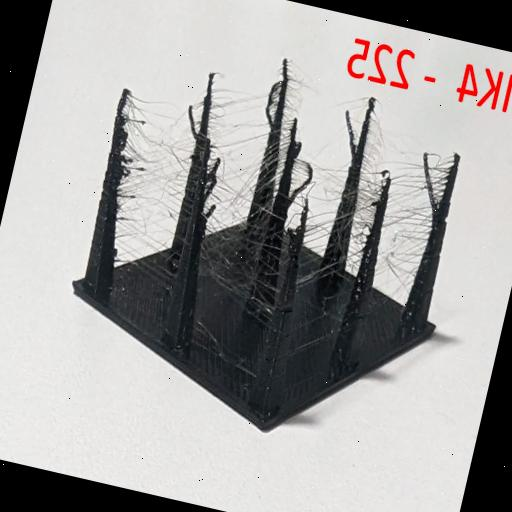stringing: (113, 90, 203, 268), (374, 153, 455, 302), (207, 74, 265, 234), (346, 105, 393, 281), (284, 153, 344, 258), (276, 62, 320, 204), (346, 99, 370, 168), (262, 71, 281, 133)
